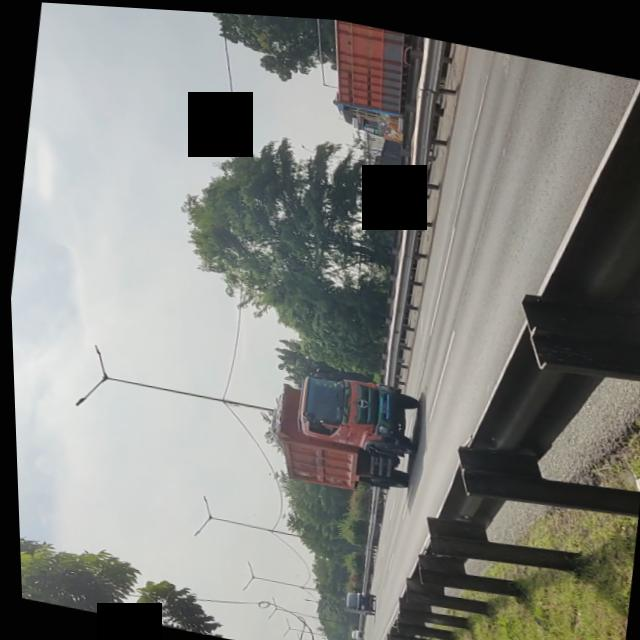Golongan II: (262, 354, 428, 499)
